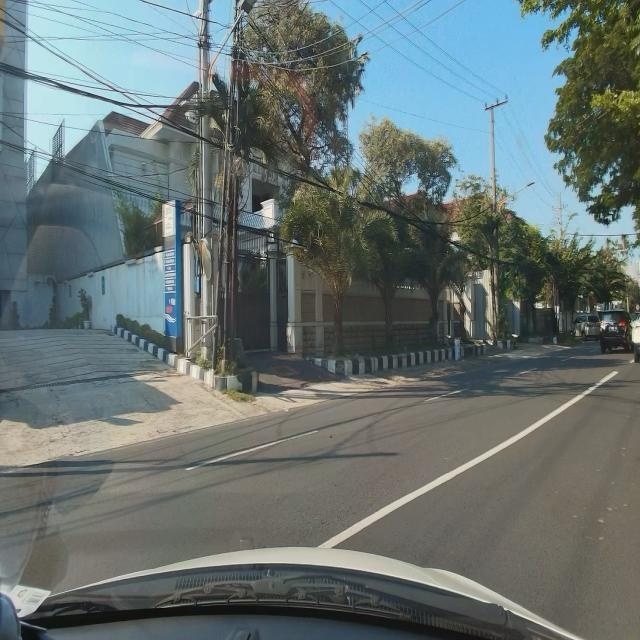car: (599, 306, 633, 352)
license-plate: (609, 327, 617, 331)
